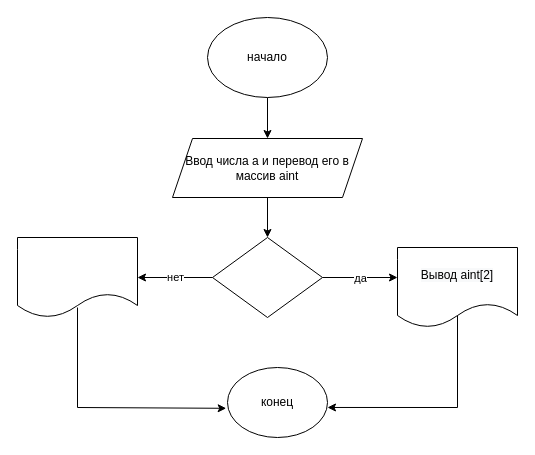
Image size: 535x455. Some labels were removed from this diagram. Here are the shapes that lost their labels. From the top down, the centre of each, then its label:
the point at 77,277: Вывод("третьей цифры нет")
the point at 267,277: if str.length>2
